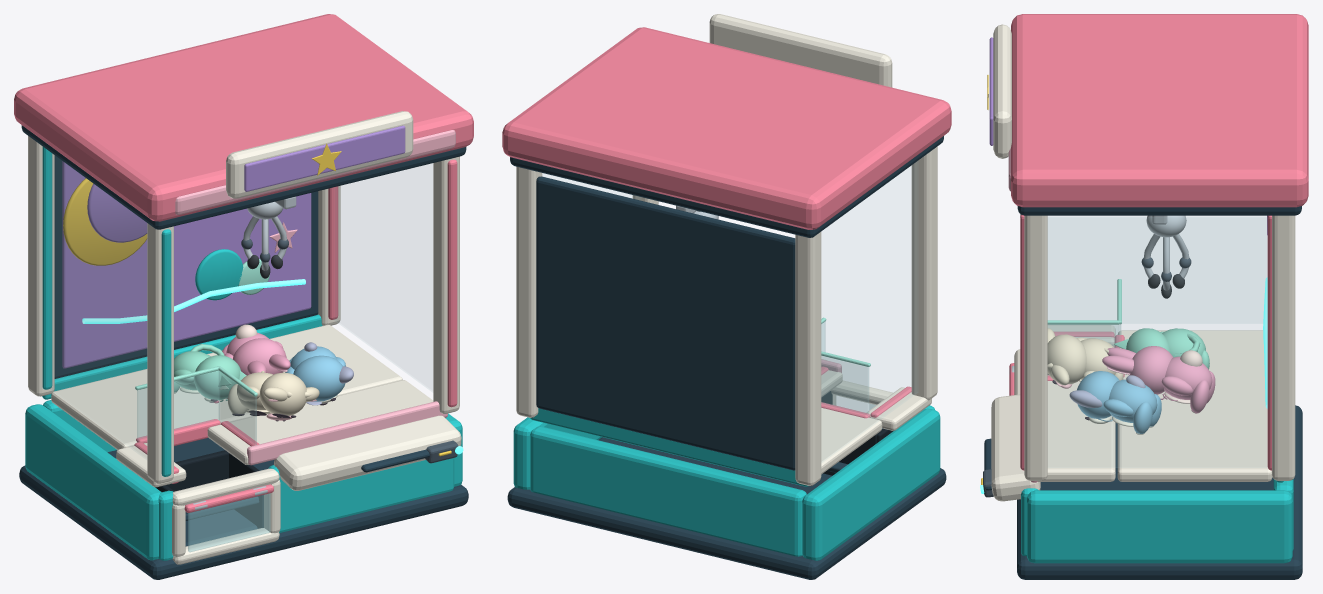
Rendered from claw-prototype.glb.
3 views of the same model, side by side, from view 1: azimuth 30°, elevation 25°; view 2: azimuth 150°, elevation 25°; view 3: azimuth 270°, elevation 25° (orthographic). The views are drawn at different scales.
Visible parts, largest first — view 1: TopCanopy, GlassLeft, BackboardInset, GlassRight, BaseSideL, DeckRear, BasePlinth, BaseFrontRight, ControlConsole, DeckFrontRight, BackboardPanel, Post_L_F_Core (+38 smaller); view 2: BackboardPanel, TopCanopy, GlassLeft, BaseBack, BaseSideL, BasePlinth, Post_L_B_Core, Post_L_F_Core, MarqueeShell, Post_R_B_Core, DeckTrimBack, TopLowerTrim (+6 smaller); view 3: TopCanopy, GlassRight, BaseSideR, DeckRear, BasePlinth, Post_R_F_Core, Post_R_B_Core, DeckFrontRight, ControlConsole, TopLowerTrim, MarqueeShell, BaseInnerFloor (+20 smaller).
Part boxes in pixels (x1,y1,x2,y2): TopCanopy: (14,14,473,221); GlassLeft: (51,153,146,459); BackboardInset: (62,161,311,368); GlassRight: (334,164,432,391); BaseSideL: (25,404,161,560); DeckRear: (51,324,402,449); BasePlinth: (19,465,468,579); BaseFrontRight: (268,458,454,532); ControlConsole: (274,415,461,490); DeckFrontRight: (207,380,433,464); BackboardPanel: (54,155,318,378); Post_L_F_Core: (147,223,173,483); BackboardPanel: (536,176,795,470); TopCanopy: (502,27,951,229); GlassLeft: (822,162,917,461); BaseBack: (530,426,806,556); BaseSideL: (802,408,940,560); BasePlinth: (507,468,946,579); Post_L_B_Core: (795,232,821,485); Post_L_F_Core: (911,146,937,400); MarqueeShell: (709,14,892,87); Post_R_B_Core: (516,166,542,417); DeckTrimBack: (530,408,808,486); TopLowerTrim: (510,136,943,237); TopCanopy: (1011,14,1308,207); GlassRight: (1048,217,1266,467); BaseSideR: (1027,490,1292,563); DeckRear: (1117,330,1272,481); BasePlinth: (1017,405,1302,579); Post_R_F_Core: (1024,215,1047,480); Post_R_B_Core: (1272,215,1295,480); DeckFrontRight: (1037,375,1115,481); ControlConsole: (991,394,1040,501); TopLowerTrim: (1017,206,1301,215); MarqueeShell: (993,24,1011,158); BaseInnerFloor: (1040,423,1273,490).
Bounding box in the file's own units: 4.66 × 5.73 × 3.93.
